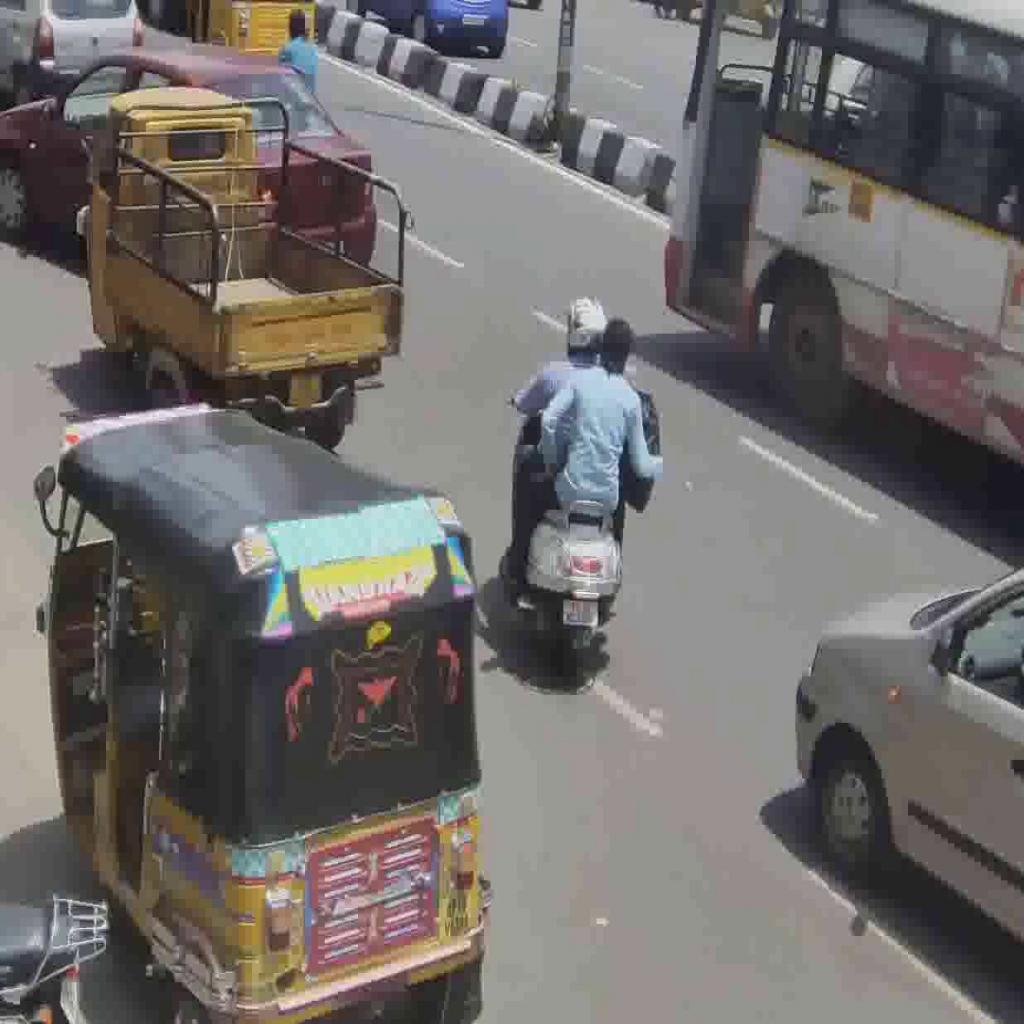helmet: (498, 294, 661, 684)
